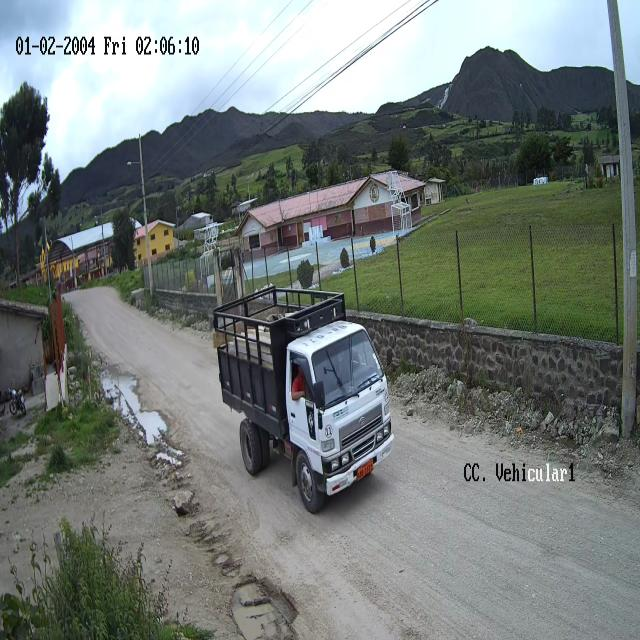CMT: (213, 288, 393, 514)
